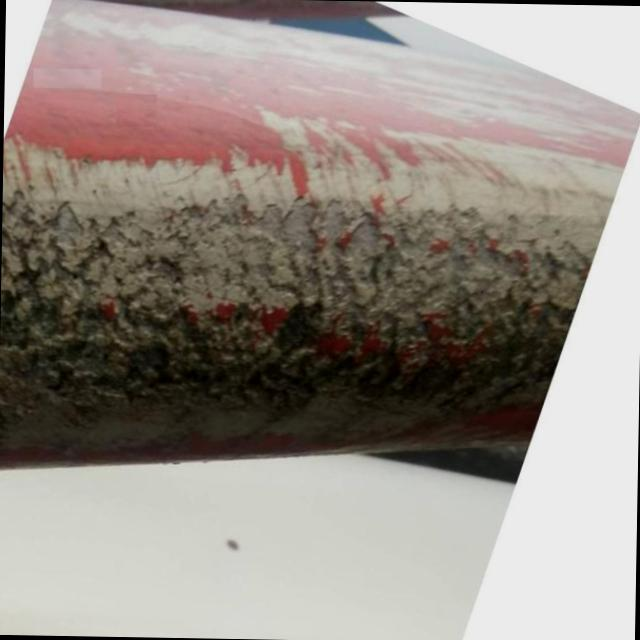corrosion: (0, 166, 535, 447)
